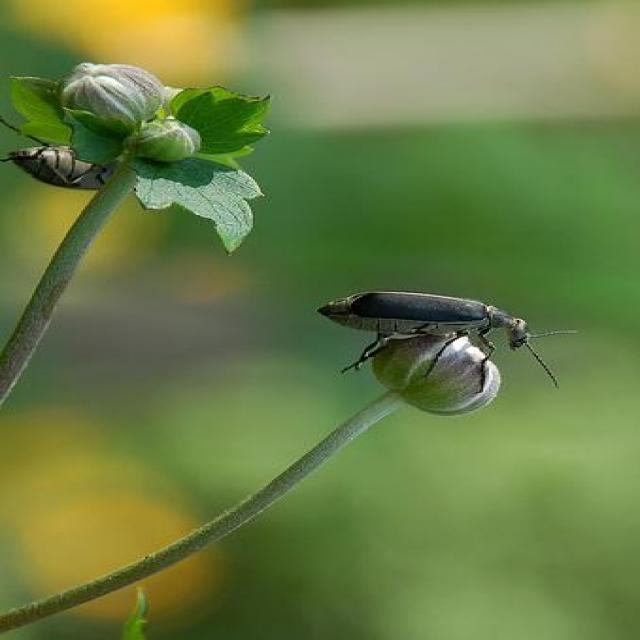BlisterBeetle-Adult-: (286, 292, 589, 396)
